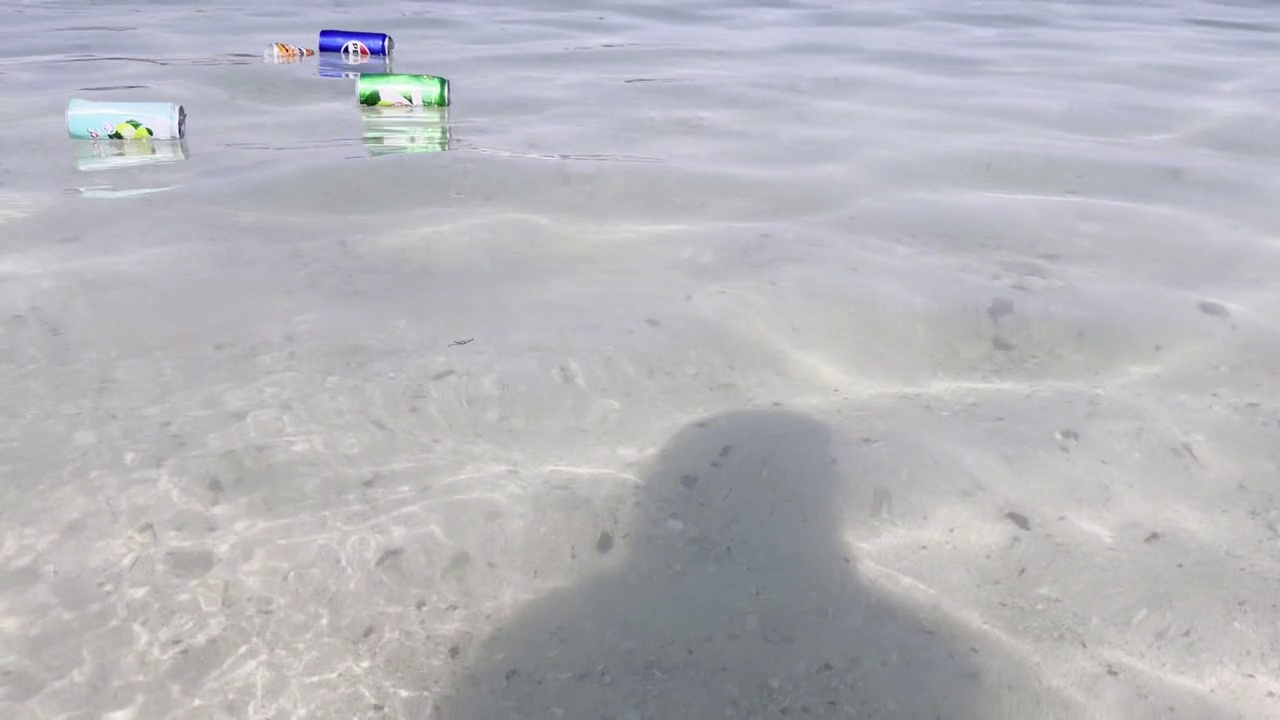debris: (59, 85, 200, 148), (355, 68, 454, 111), (306, 23, 398, 66), (258, 35, 314, 68)
